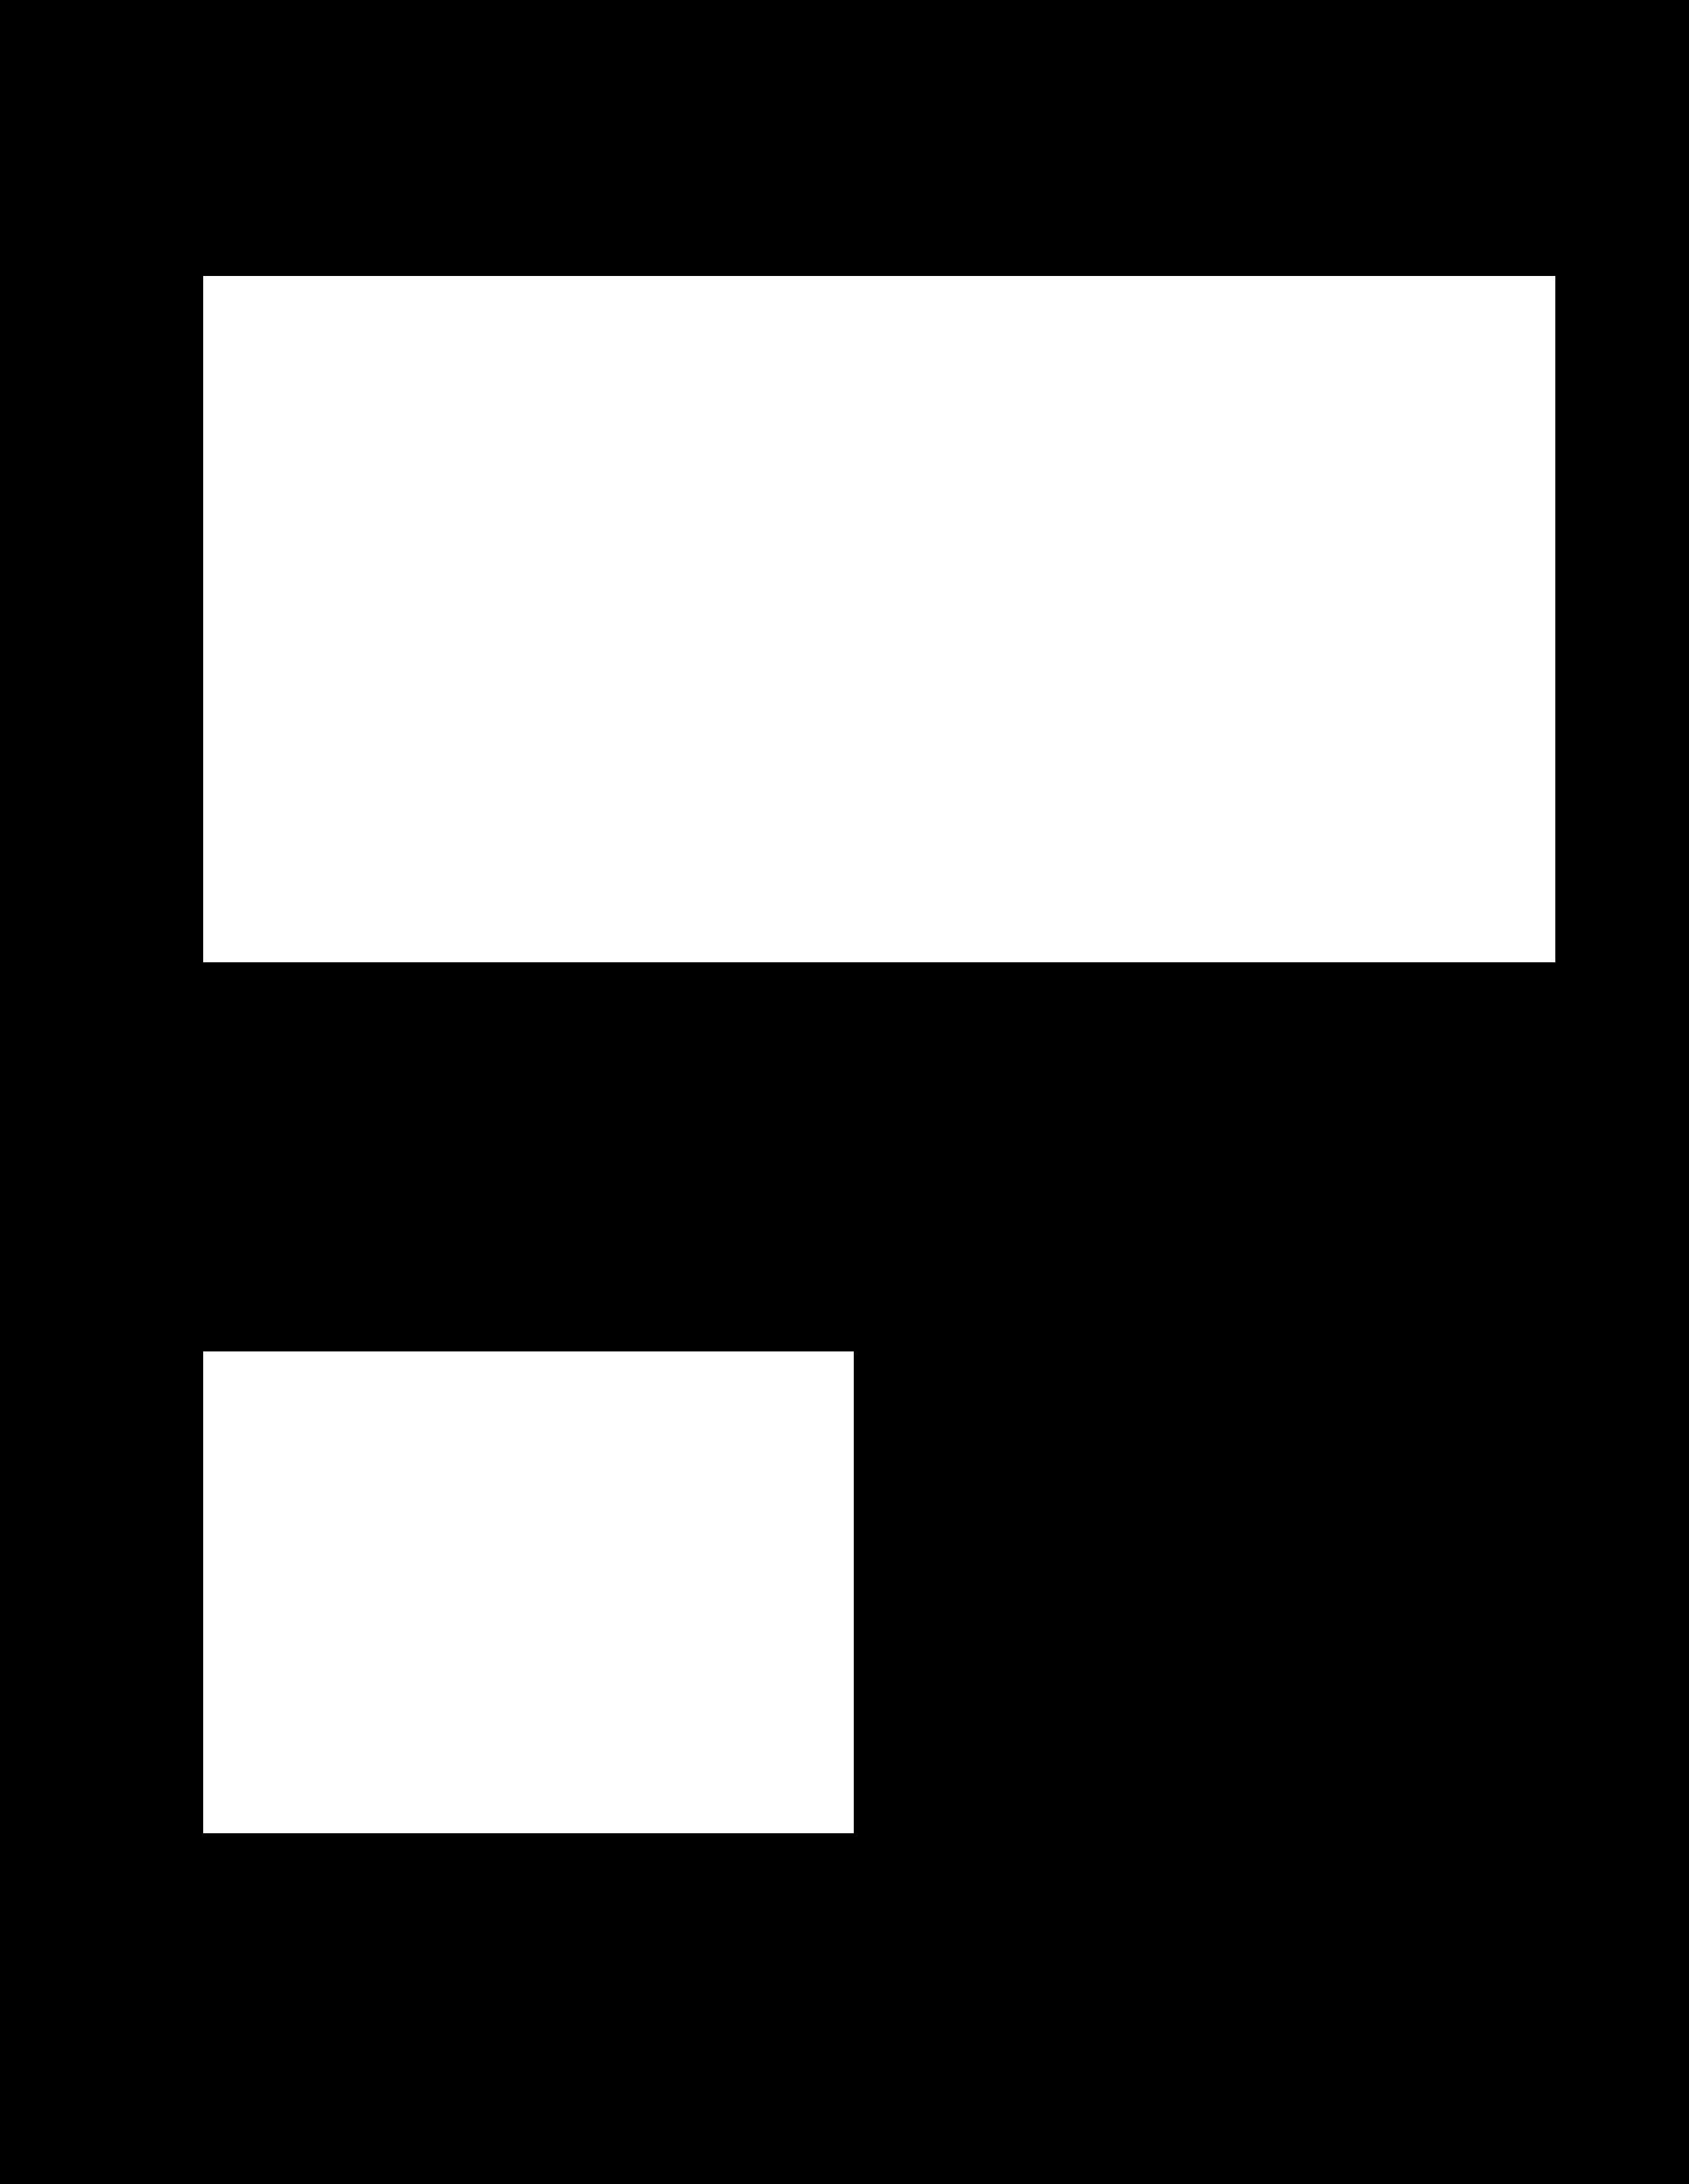table: (204, 277, 1554, 961), (204, 1351, 852, 1833)
